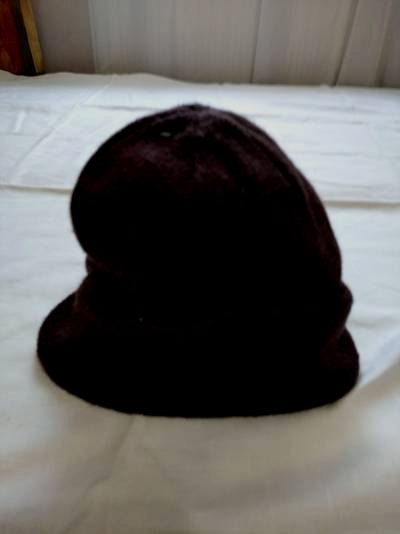Hat: (36, 108, 367, 429)
